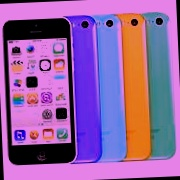iphone: (106, 16, 176, 162)
